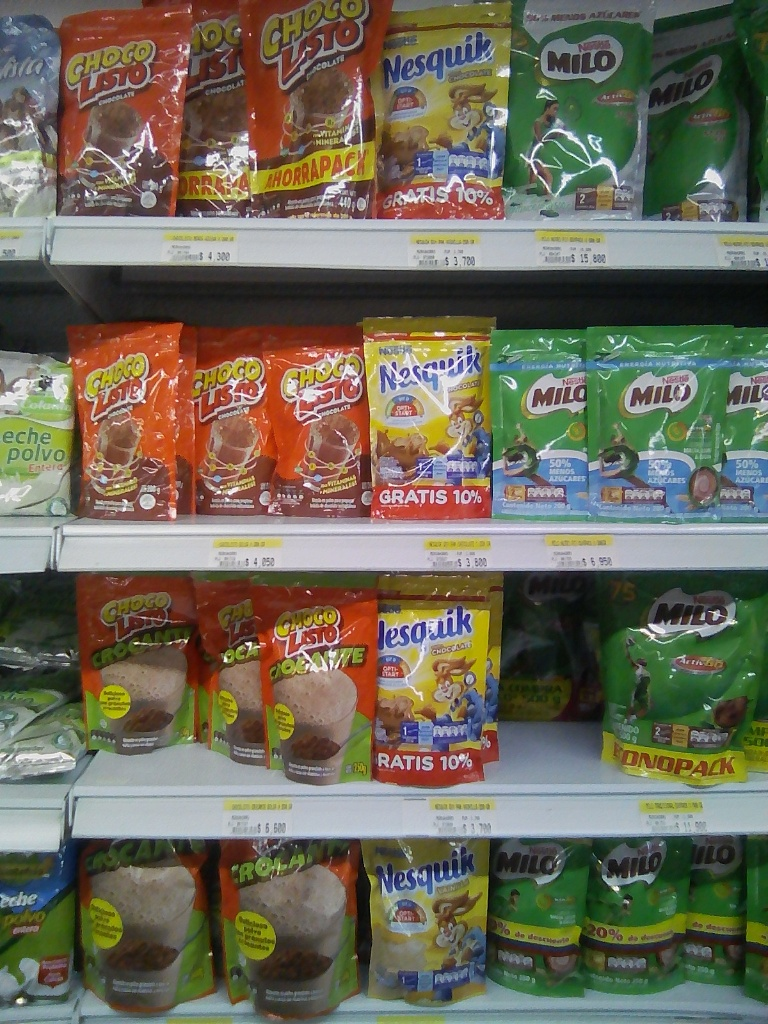COL0170102DYP25000: (66, 572, 203, 754)
COL0170102DYP50000: (79, 839, 214, 1007)
COL0170103DYP20000: (60, 15, 182, 218)
COL0170103DYP44000: (140, 0, 249, 220)
COL0170203DYP25000: (484, 839, 593, 1002)
COL0170203DYP50000: (597, 571, 763, 782)
COL0170205DYP20000: (485, 322, 590, 528)
COL0170205DYP50000: (501, 3, 650, 219)
COL0170303DYP20000: (366, 572, 503, 785)
COL0170306DYP20000: (356, 841, 495, 1016)
